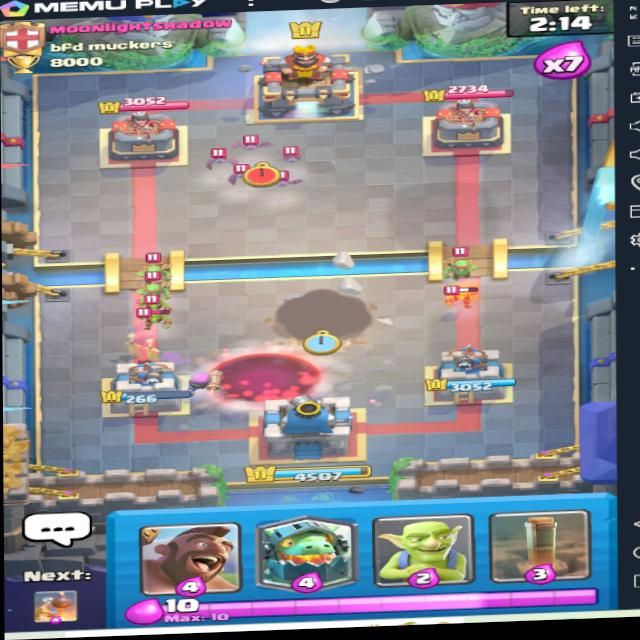Bat: (276, 143, 308, 171), (194, 151, 238, 169), (267, 168, 305, 187), (235, 137, 267, 157)
Goblin: (445, 277, 483, 313), (136, 305, 170, 330), (140, 290, 173, 315)
Speargoblin: (440, 247, 480, 280), (141, 255, 175, 285), (136, 279, 169, 305)
Void: (206, 352, 327, 410)
